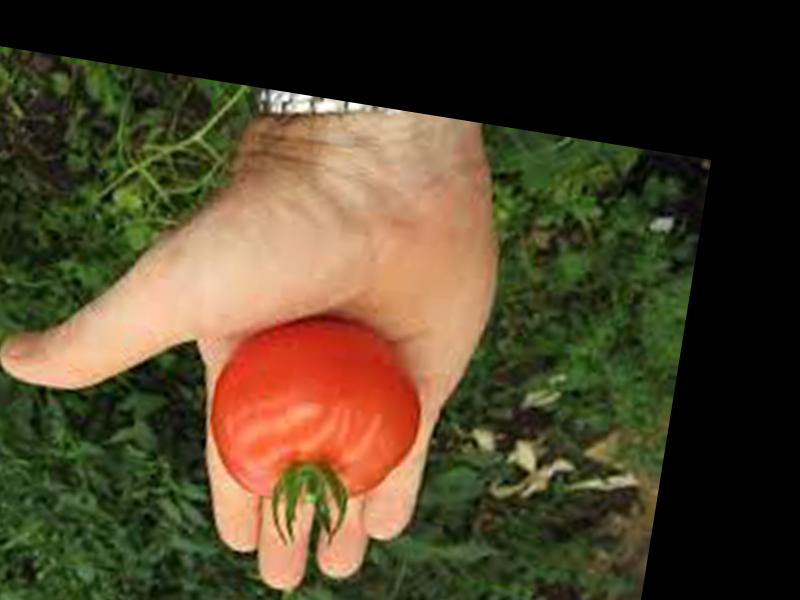Tomato: (197, 304, 436, 517)
